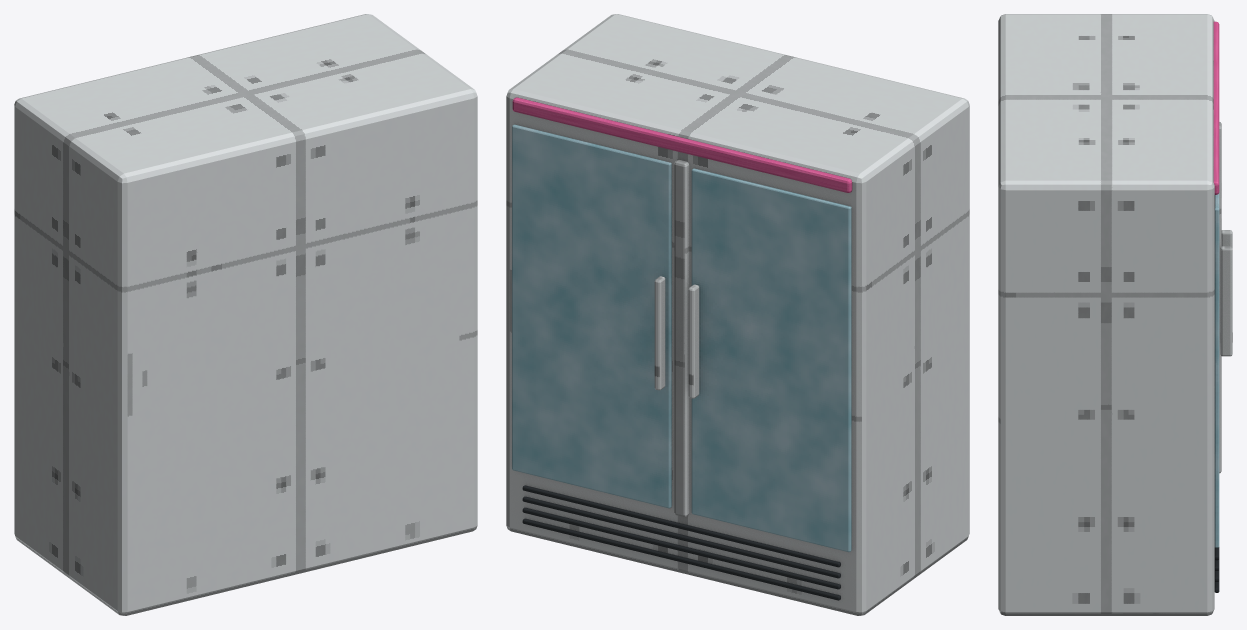
Rendered from base_closure_fridge.glb.
The picture shows the model from 3 angles, left to right: view 1: azimuth 30°, elevation 25°; view 2: azimuth 150°, elevation 25°; view 3: azimuth 270°, elevation 25°; orthographic projection.
Visible parts, largest first — view 1: base_closure_fridge; view 2: base_closure_fridge; view 3: base_closure_fridge.
Boxes of the visible parts, x1=… form: base_closure_fridge: x1=14, y1=14, x2=477, y2=615; base_closure_fridge: x1=506, y1=14, x2=969, y2=615; base_closure_fridge: x1=998, y1=14, x2=1232, y2=615.
Size of the model in its own units: 1.7 by 2 by 0.975.
5 materials, 5 textured.
